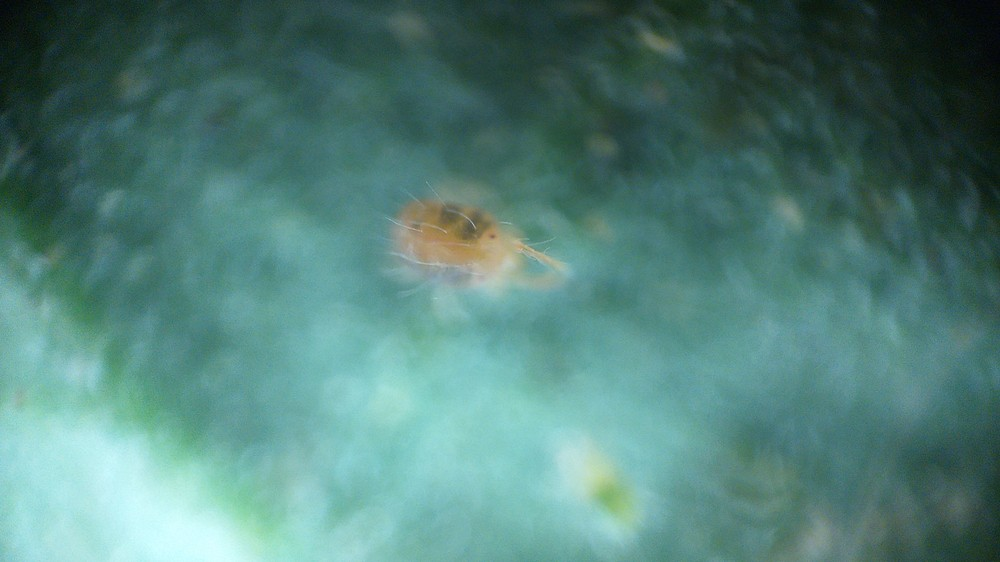Aracnido Rojo: (350, 174, 594, 337)
